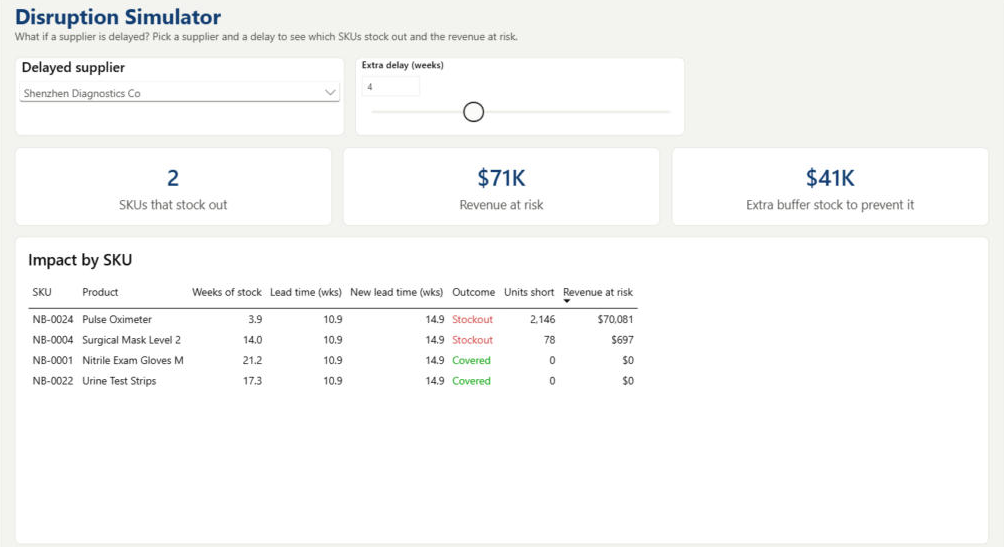

The dashboard page shown, as its layout file describes it:
{"tool":"powerbi","page":{"name":"Disruption Simulator","canvas":[1280,720],"ordinal":4},"visuals":[{"type":"textbox","box":[20,8,1240,64],"z":39000},{"type":"slicer","fields":{"Values":["suppliers.supplier_name"]},"box":[20,80,420,100],"z":40000},{"type":"slicer","fields":{"Values":["Delay Weeks.Delay Weeks"]},"box":[454,80,420,100],"z":41000},{"type":"card","fields":{"Values":["_Measures.SKUs Stocking Out"]},"box":[20,194,404,100],"z":42000},{"type":"card","fields":{"Values":["_Measures.Revenue at Risk"]},"box":[438,194,404,100],"z":43000},{"type":"card","fields":{"Values":["_Measures.Extra Buffer Cost"]},"box":[856,194,404,100],"z":44000},{"type":"tableEx","title":"Impact by SKU","fields":{"Values":["products.sku","products.product_name","_Measures.Weeks of Stock","products.LT Mean Wks","_Measures.New Lead Time Wks","_Measures.Disruption Outcome","_Measures.Units Short","_Measures.Revenue at Risk"]},"box":[20,308,1240,392],"z":45000}]}

Visuals, with their boxes on the page's 1280x720 design canvas (x1, y1, x2, y2). These are canvas units, not pixel positions in the 1004x547 screenshot, which may show the page scaled, cropped or inside an application window:
textbox: <bbox>20, 8, 1260, 72</bbox>
slicer - suppliers.supplier_name: <bbox>20, 80, 440, 180</bbox>
slicer - Delay Weeks.Delay Weeks: <bbox>454, 80, 874, 180</bbox>
card - _Measures.SKUs Stocking Out: <bbox>20, 194, 424, 294</bbox>
card - _Measures.Revenue at Risk: <bbox>438, 194, 842, 294</bbox>
card - _Measures.Extra Buffer Cost: <bbox>856, 194, 1260, 294</bbox>
"Impact by SKU" tableEx: <bbox>20, 308, 1260, 700</bbox>
